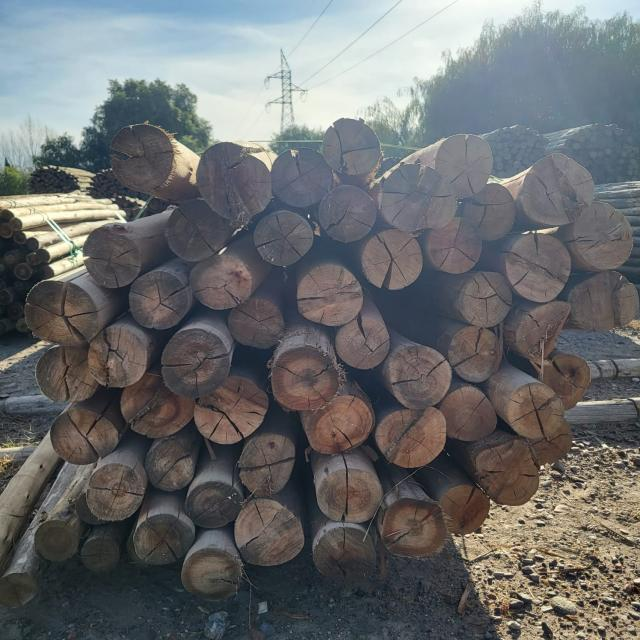package: (24, 115, 628, 611), (1, 196, 56, 342), (559, 121, 640, 186), (486, 125, 554, 184), (25, 163, 82, 196)
